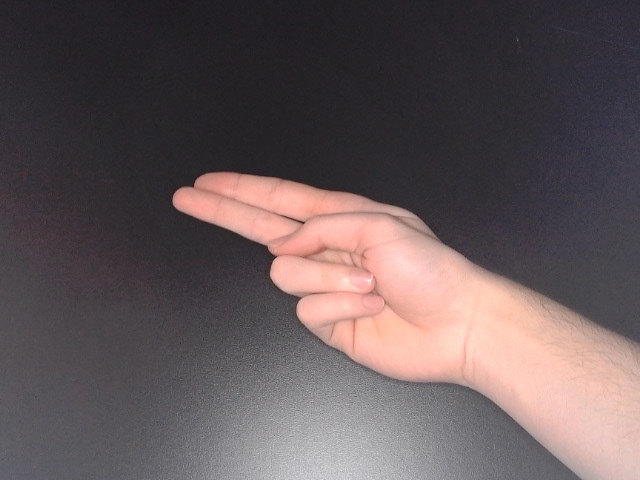h: (169, 168, 490, 404)
